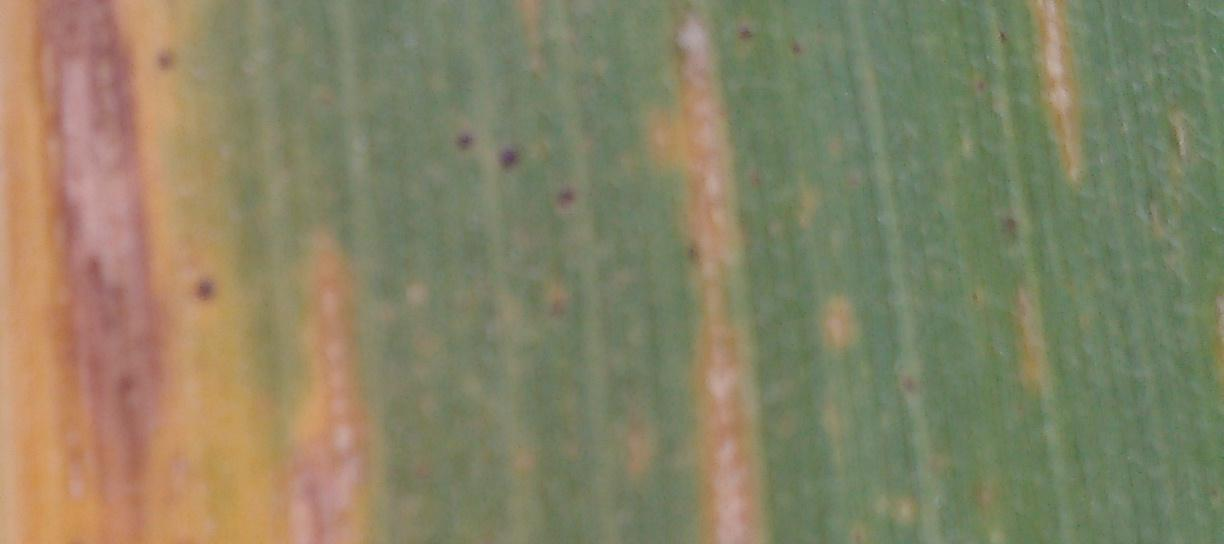tarspot: (145, 38, 189, 83), (180, 271, 228, 304), (884, 363, 926, 400), (991, 206, 1026, 248), (491, 140, 532, 175), (726, 13, 760, 50), (678, 233, 710, 271), (545, 183, 584, 211), (445, 123, 478, 156), (776, 35, 812, 63)
